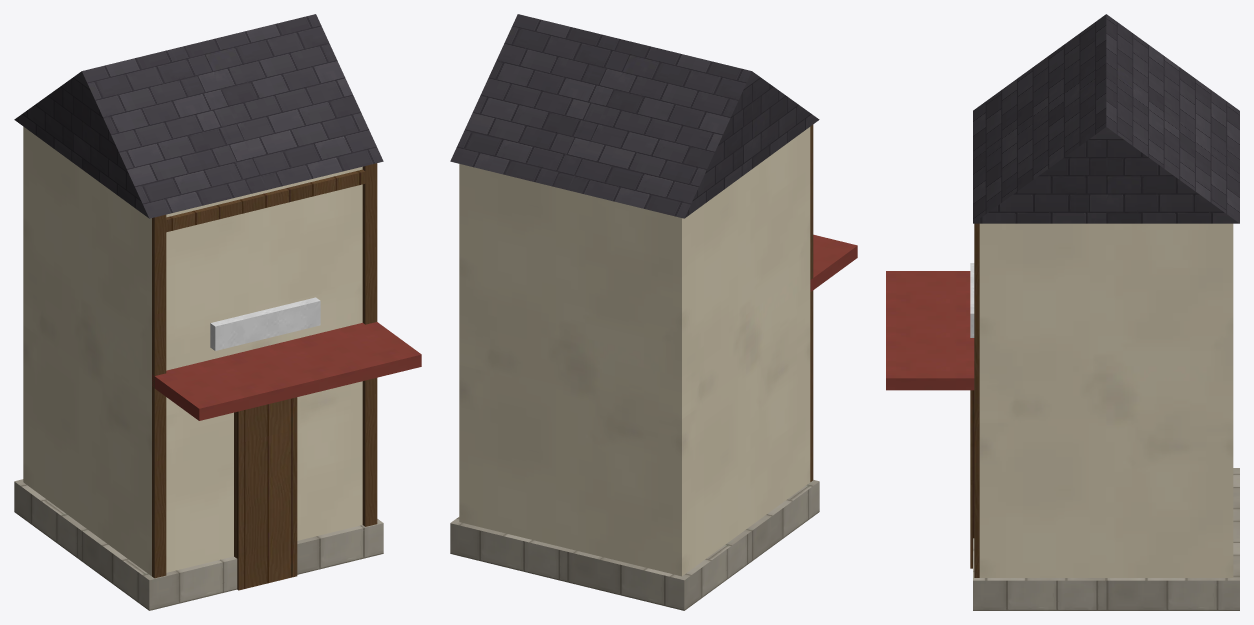
Rendered from category.dex.t3.glb.
3 views of the same model, side by side, from view 1: azimuth 30°, elevation 25°; view 2: azimuth 150°, elevation 25°; view 3: azimuth 270°, elevation 25° (orthographic).
Parts seen in each view (by area): view 1: building.category.dex.t3; view 2: building.category.dex.t3; view 3: building.category.dex.t3.
Part boxes in pixels (<box>): building.category.dex.t3: <box>14,14,421,610</box>; building.category.dex.t3: <box>450,14,857,610</box>; building.category.dex.t3: <box>886,14,1239,610</box>.
Size of the model in its own units: 2 by 4 by 2.65.
Materials: 6 (6 with a texture image).
